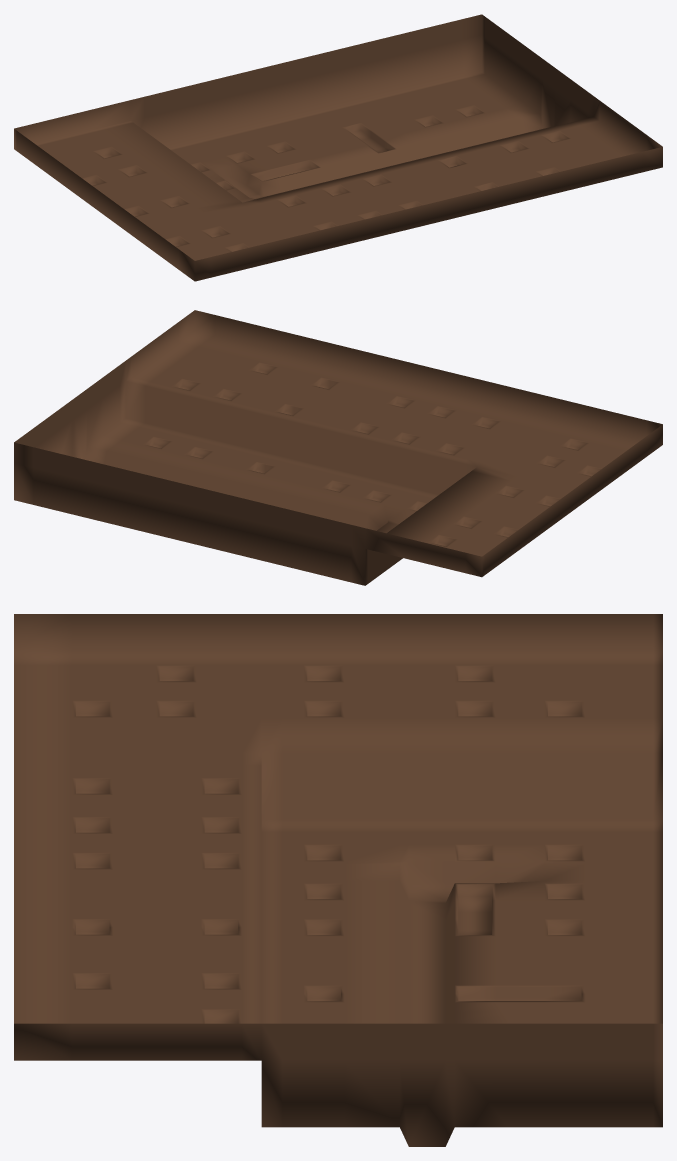
The model's file is terrain.glb.
3 views of the same model, one above another, from view 1: azimuth 30°, elevation 25°; view 2: azimuth 150°, elevation 25°; view 3: azimuth 270°, elevation 25° (orthographic). The views are drawn at different scales.
Parts seen in each view (by area): view 1: Site.cleaning.003; view 2: Site.cleaning.003; view 3: Site.cleaning.003.
Boxes of the visible parts, box(x1,y1,x2,y2) form: Site.cleaning.003: box(14, 14, 662, 281); Site.cleaning.003: box(14, 310, 662, 585); Site.cleaning.003: box(14, 614, 662, 1146).
Bounding box in the file's own units: 26.6 × 3.73 × 17.81.
